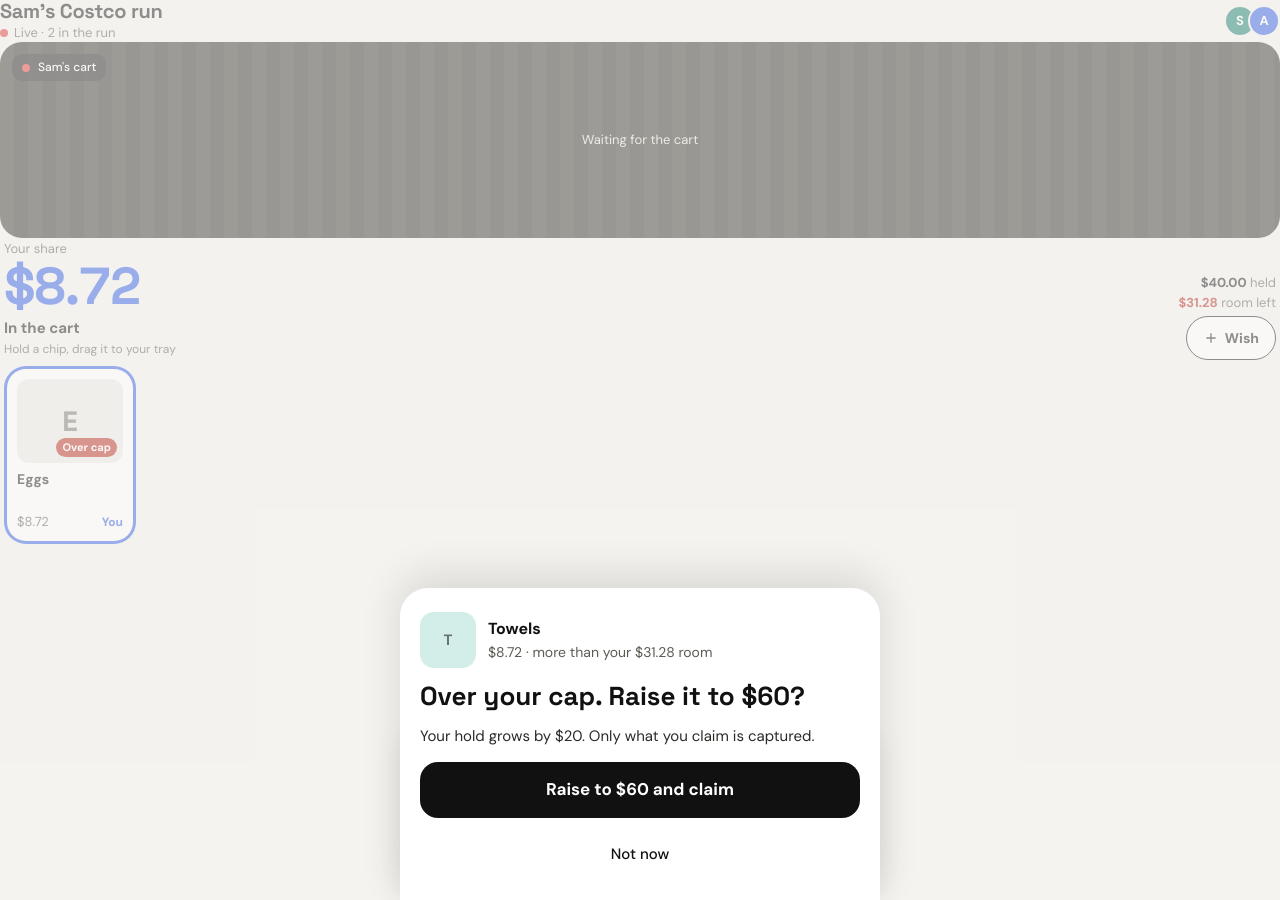
Scenario: a 403 from raise hides the action and says it is off
Step 1. Click the button "Raise to $60 and claim" → (640, 790), box [420, 762, 860, 818]
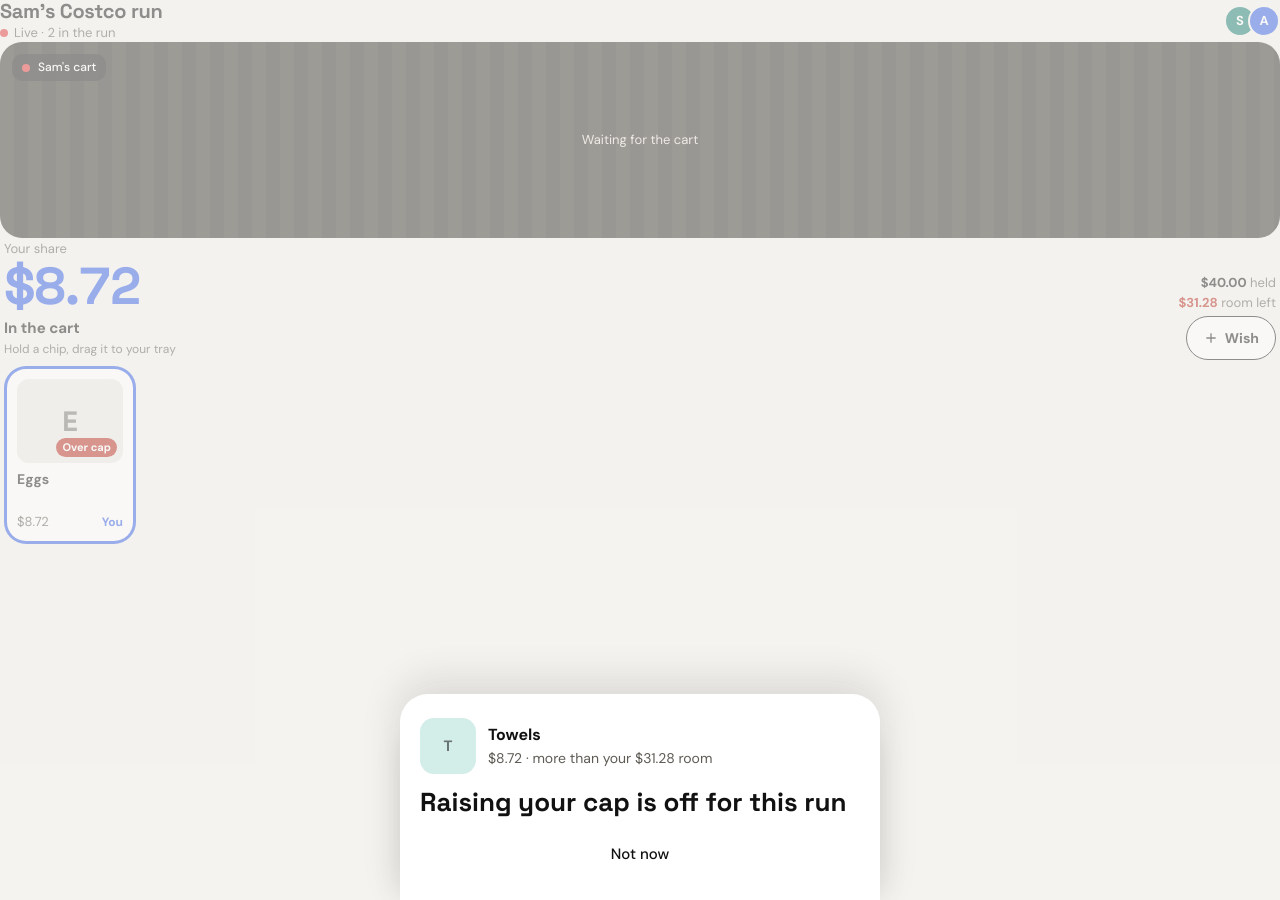
Check: the text "Raising your cap is off for this run" is shown, box [420, 788, 860, 818]
Check: the button "Raise to" is gone
